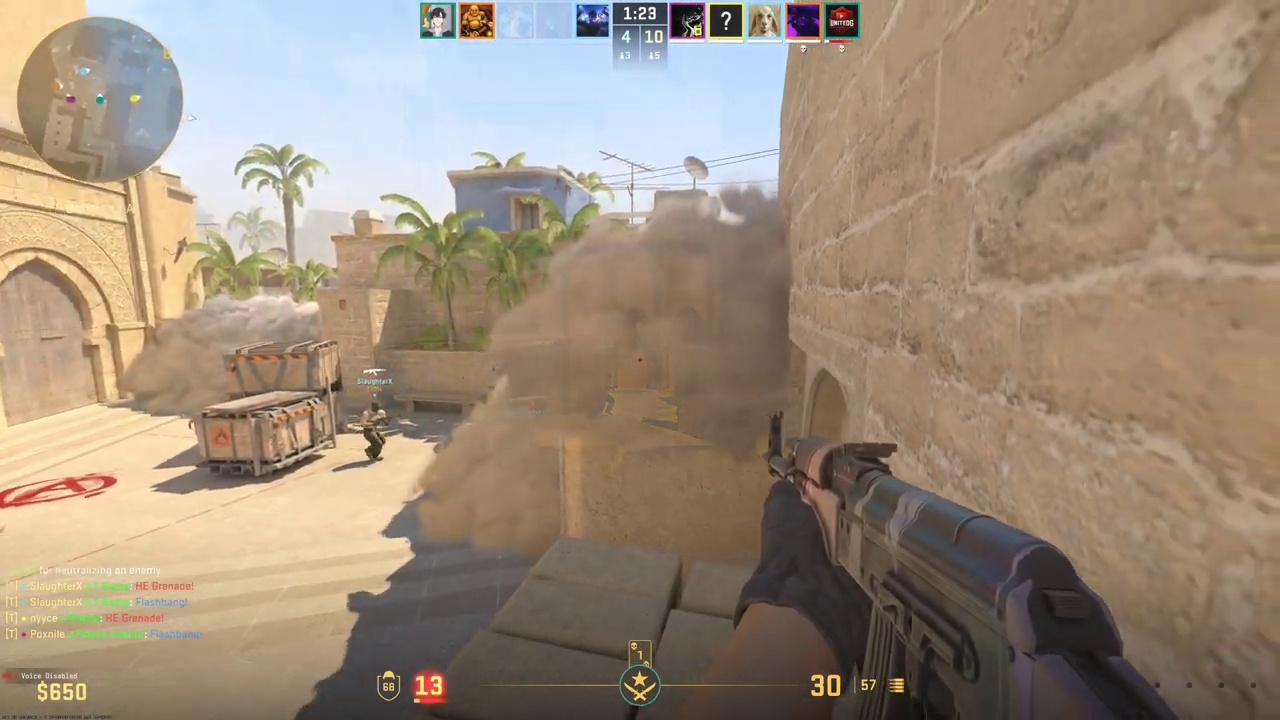Terrorist: (361, 402, 385, 459)
